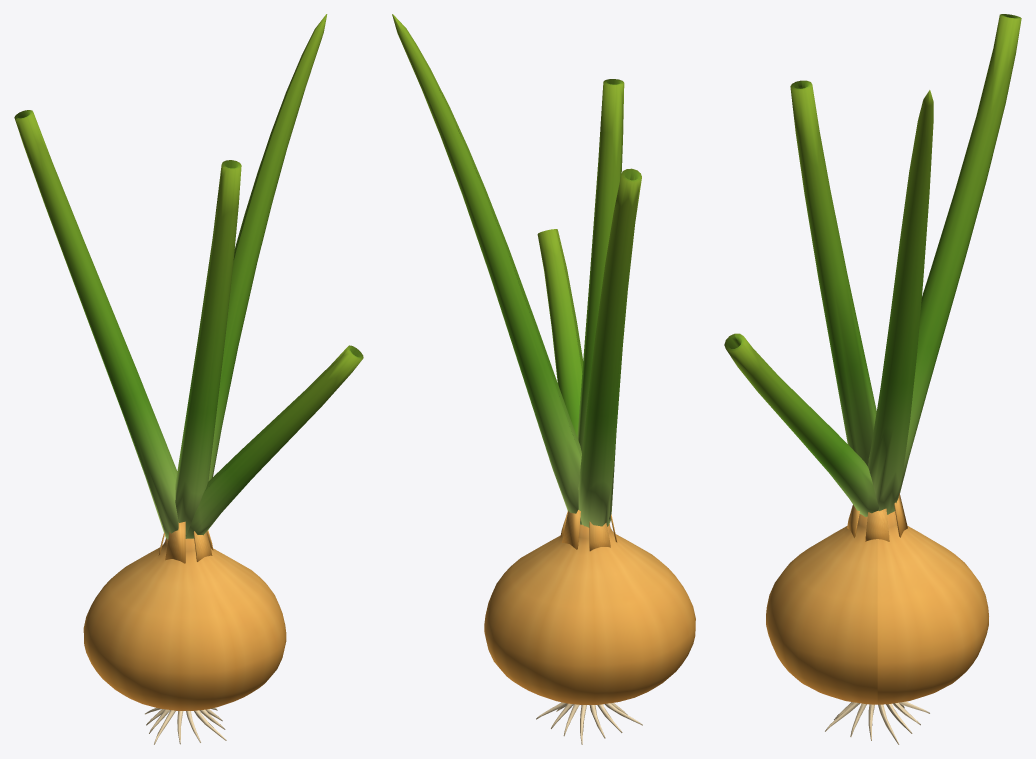
Rendered from NP_Onion_BulbForming_LOD1.fbx.
3 renders of one model, left to right at view 1: azimuth 30°, elevation 25°; view 2: azimuth 150°, elevation 25°; view 3: azimuth 270°, elevation 25°, orthographic. The views are drawn at different scales.
Visible parts, largest first — view 1: NP_Onion_BulbForming; view 2: NP_Onion_BulbForming; view 3: NP_Onion_BulbForming.
Part boxes in pixels (<box>): NP_Onion_BulbForming: <box>14,14,363,744</box>; NP_Onion_BulbForming: <box>392,14,695,744</box>; NP_Onion_BulbForming: <box>724,14,1021,744</box>.
Size of the model in its own units: 36.65 by 83.68 by 31.26.
